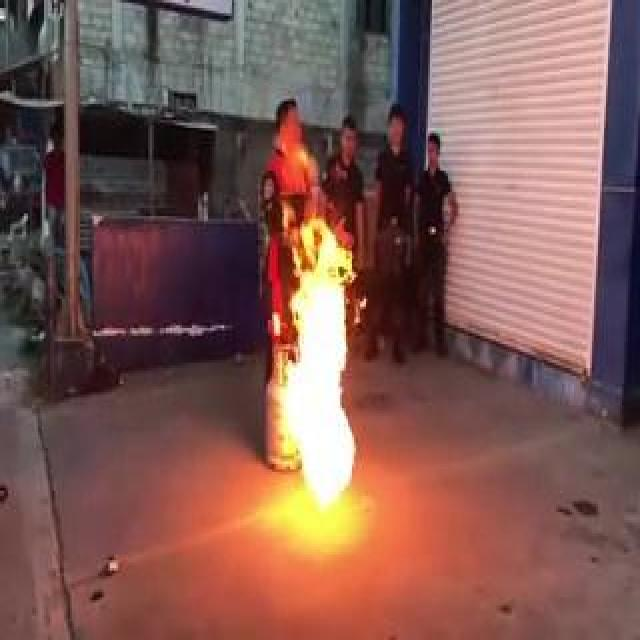Fire: (272, 200, 358, 507)
